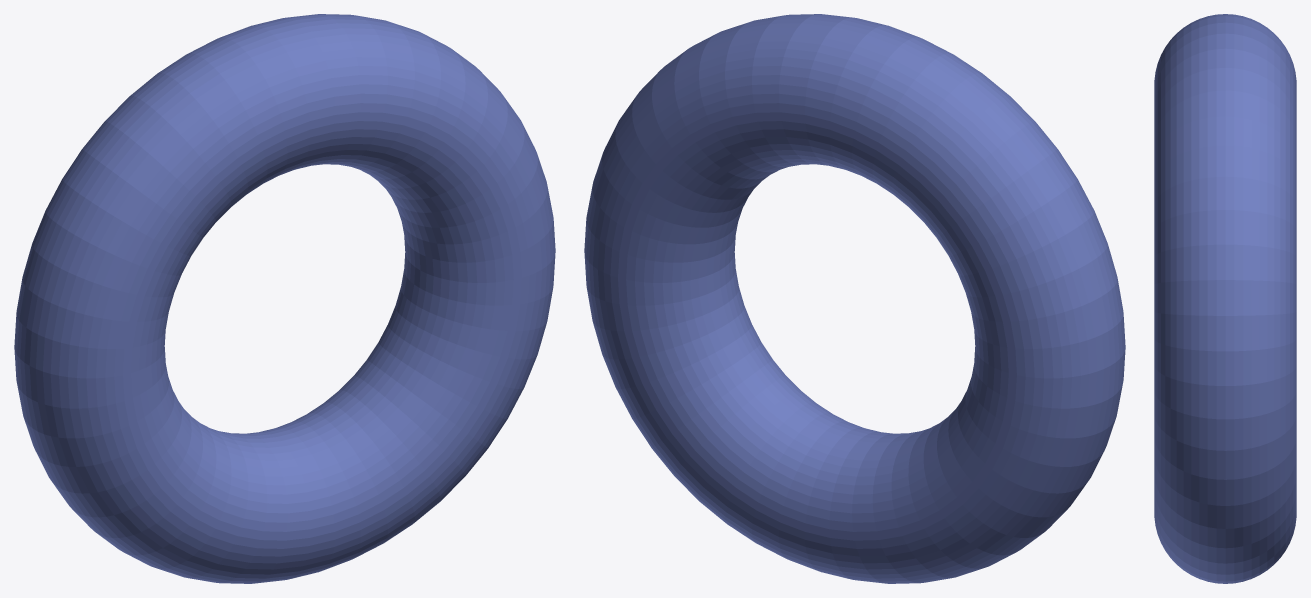
3 views of the same model, side by side, from view 1: azimuth 30°, elevation 25°; view 2: azimuth 150°, elevation 25°; view 3: azimuth 270°, elevation 25° (orthographic). The views are drawn at different scales.
Visible parts, largest first — view 1: world; view 2: world; view 3: world.
Boxes of the visible parts, x1,y1,x2,y2 form: world: (14,14,555,583); world: (584,14,1125,583); world: (1154,14,1296,583).
Size of the model in its own units: 13.33 by 13.31 by 3.33.
